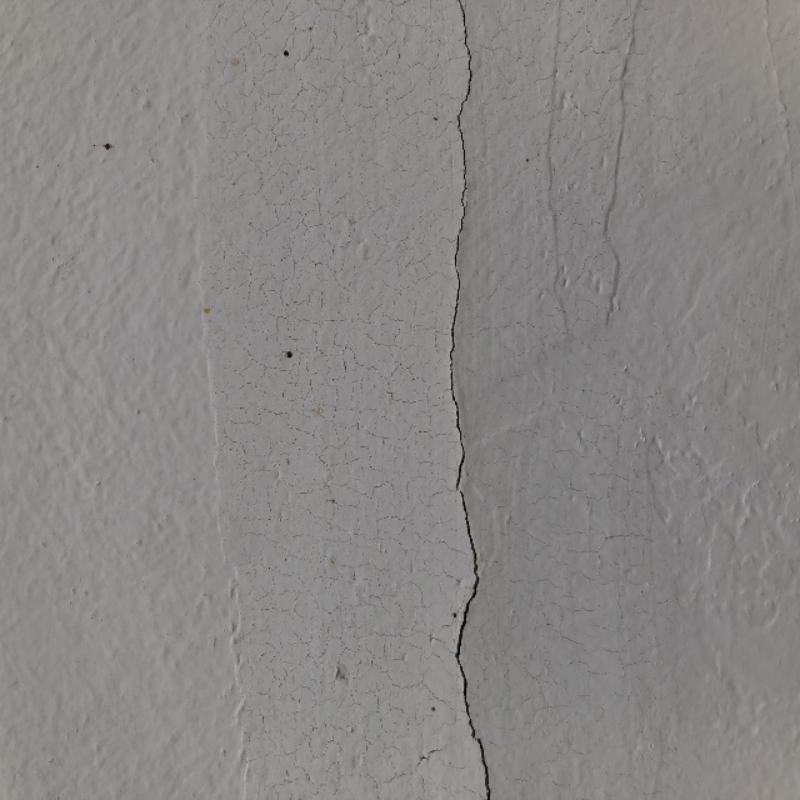pothole: (442, 9, 491, 799)
